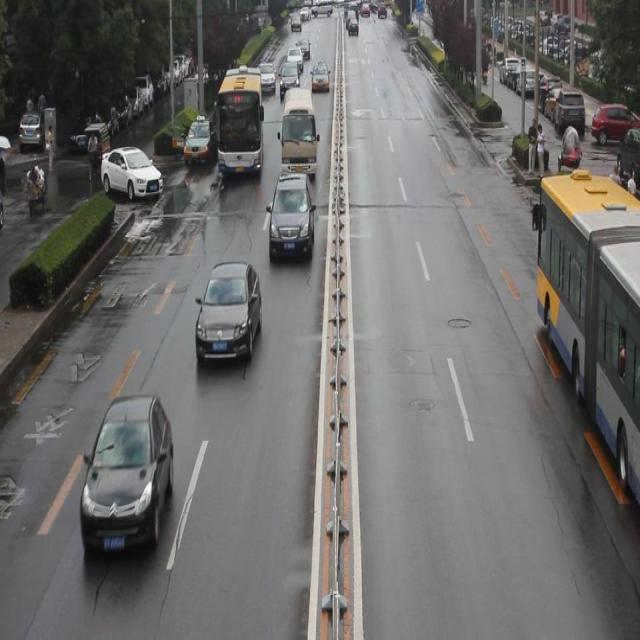car: (80, 400, 173, 552), (197, 263, 262, 365), (268, 172, 312, 261), (102, 150, 162, 196), (183, 128, 216, 178)
truck: (282, 90, 315, 178)
van: (531, 183, 640, 519), (217, 68, 264, 181)
